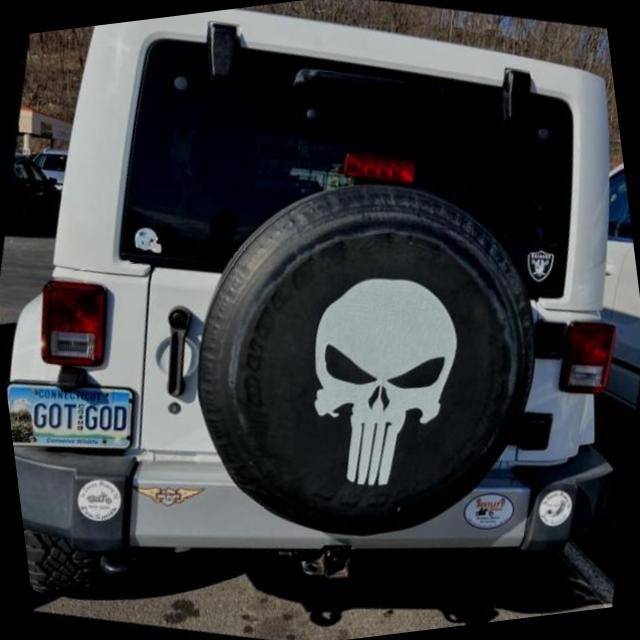LicensePlate: (5, 364, 144, 458)
